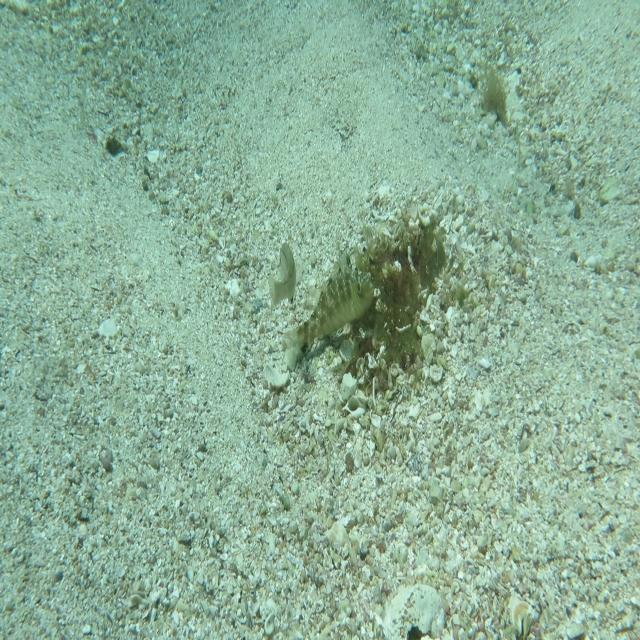LF: (278, 243, 376, 370)
core_nest: (396, 239, 448, 275)
female: (267, 241, 298, 308)
nest: (337, 206, 457, 405)
